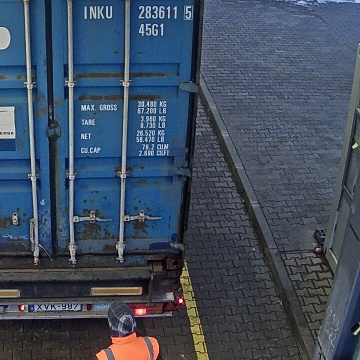serial_id: (84, 6, 191, 19)
